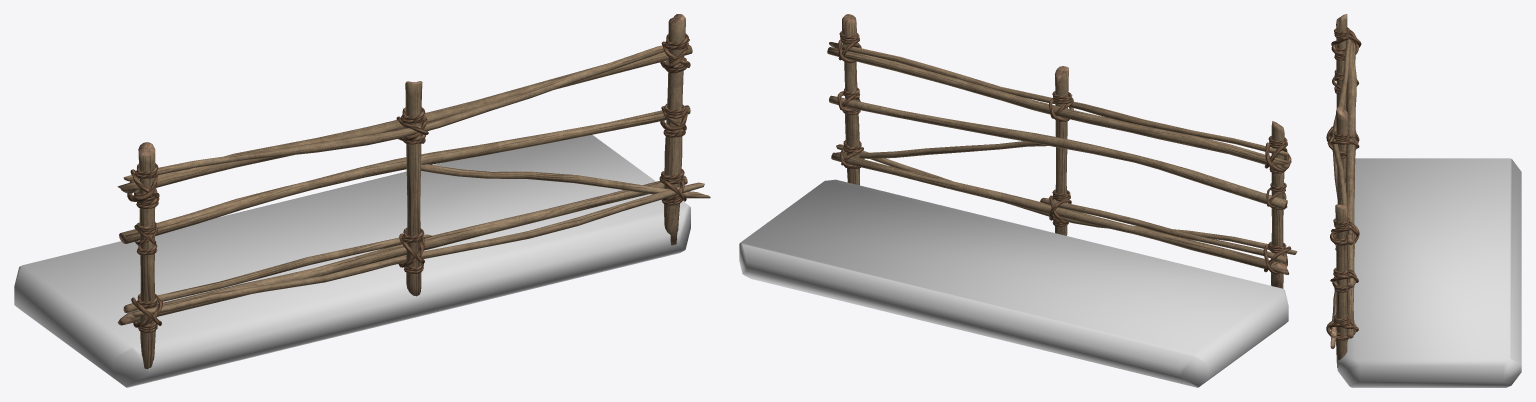
The model's file is SM_Fencing_A.fbx.
The picture shows the model from 3 angles, left to right: view 1: azimuth 30°, elevation 25°; view 2: azimuth 150°, elevation 25°; view 3: azimuth 270°, elevation 25°; orthographic projection. The views are drawn at different scales.
Visible parts, largest first — view 1: SM_Fencing_A_ConvexHulls, SM_Fencing_A; view 2: SM_Fencing_A_ConvexHulls, SM_Fencing_A; view 3: SM_Fencing_A_ConvexHulls, SM_Fencing_A.
Boxes of the visible parts, x1,y1,x2,y2 form: SM_Fencing_A_ConvexHulls: [14, 135, 690, 387]; SM_Fencing_A: [117, 14, 710, 368]; SM_Fencing_A_ConvexHulls: [739, 179, 1288, 387]; SM_Fencing_A: [827, 14, 1297, 288]; SM_Fencing_A_ConvexHulls: [1337, 158, 1521, 387]; SM_Fencing_A: [1326, 14, 1361, 367].
Bounding box in the file's own units: 3 × 1.21 × 1.19.
